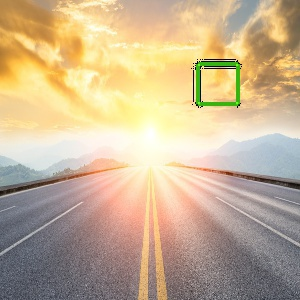square: (192, 56, 244, 110)
